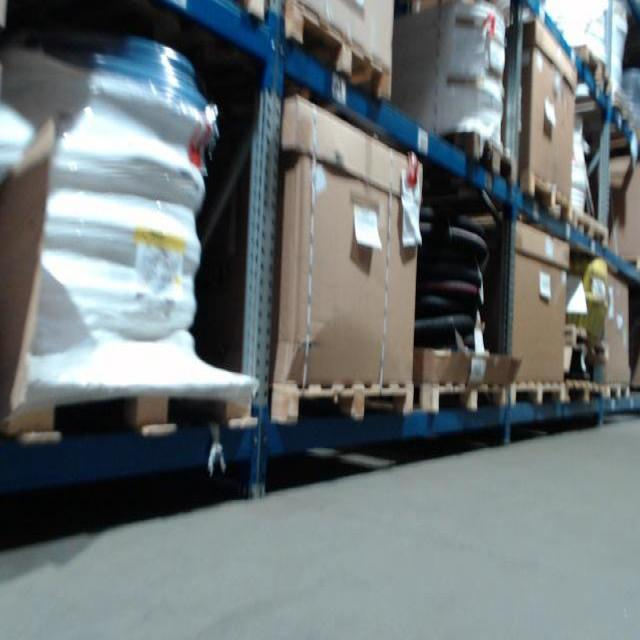pallet: (4, 380, 258, 451), (278, 0, 395, 105), (269, 382, 415, 432), (449, 125, 519, 184), (417, 377, 508, 417), (516, 168, 574, 226), (573, 46, 611, 99), (509, 377, 564, 411), (571, 209, 610, 249), (562, 378, 602, 411), (602, 383, 631, 400)
